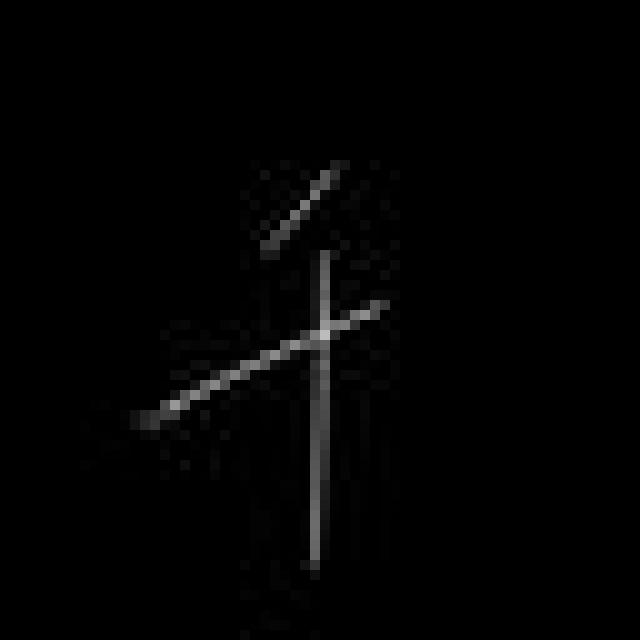1000 -a thousand-: (133, 159, 390, 581)
